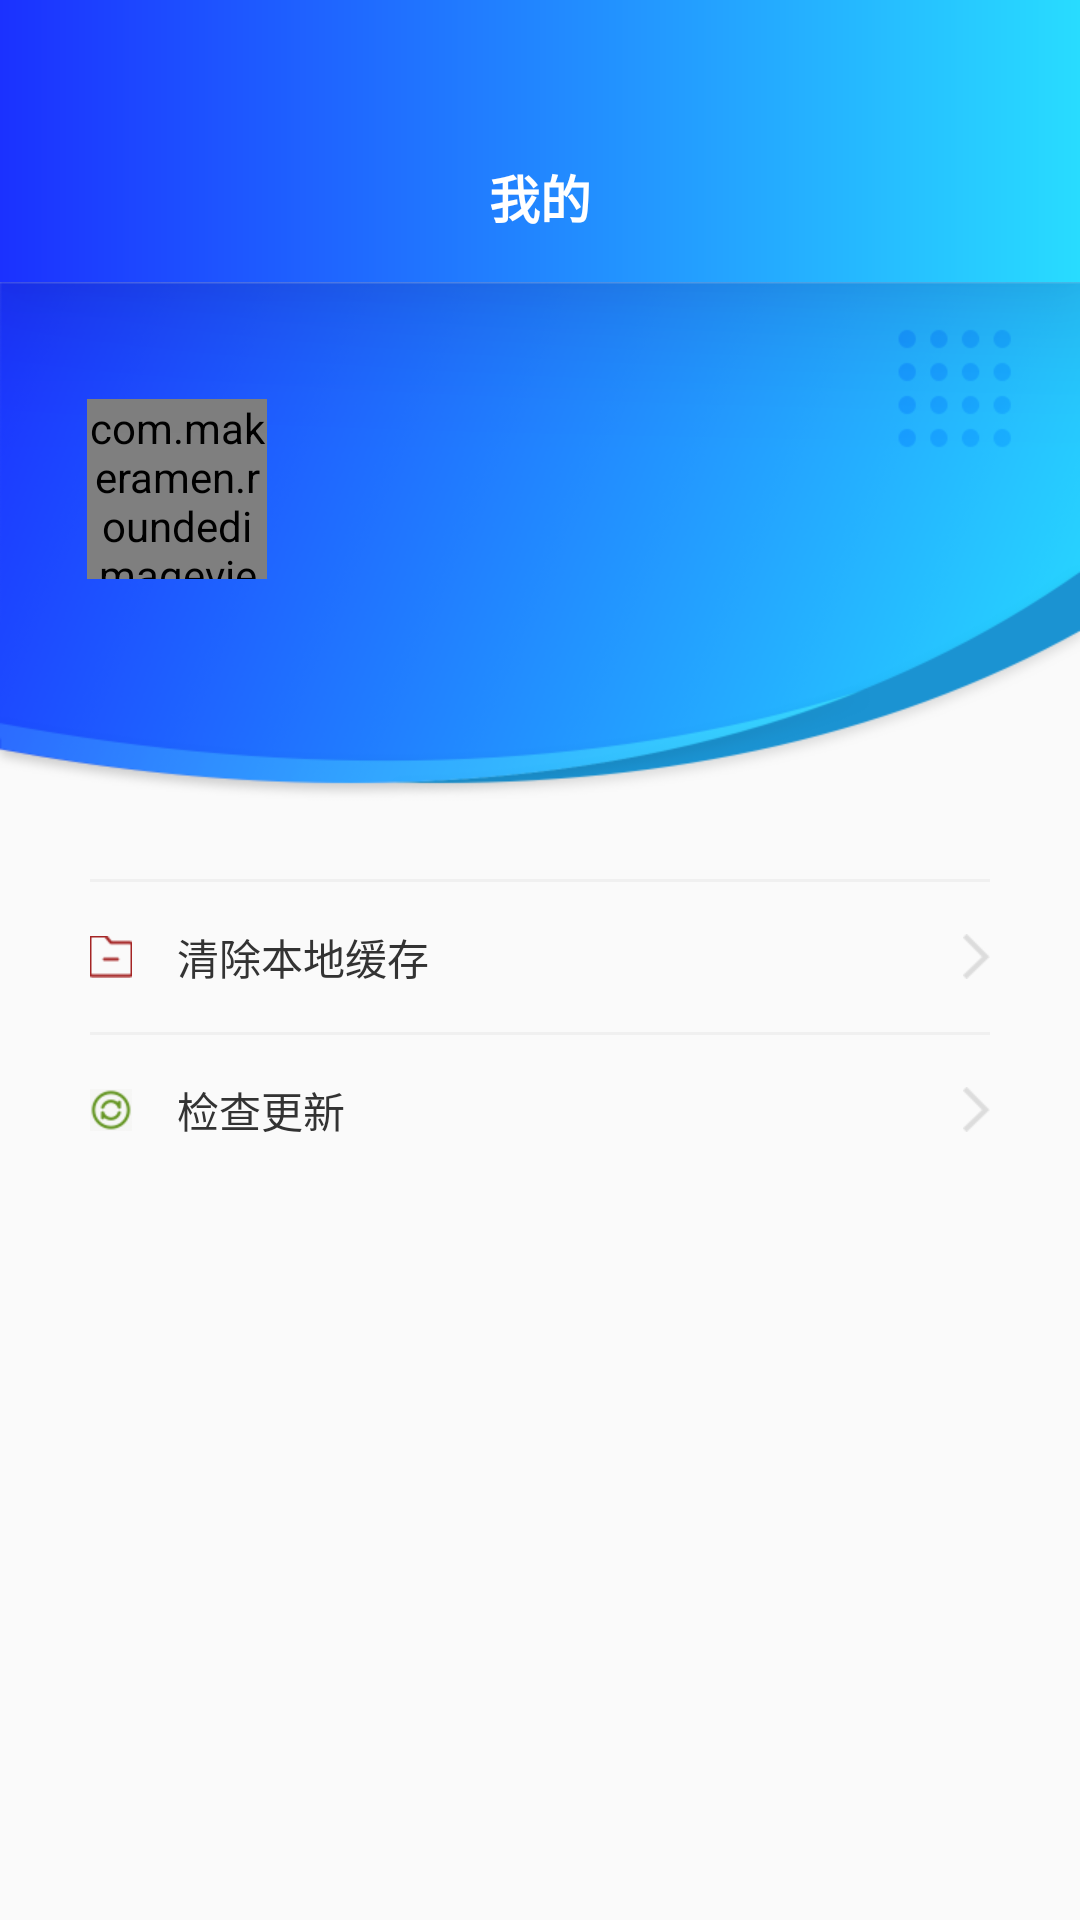

Icon bounding boxes for this 1080×1920 phone screenshot, format (x1, y1, x2, y2):
check update: (91, 1090, 131, 1130)
delete cache: (90, 936, 132, 978)
right: (965, 935, 988, 978), (964, 1088, 988, 1131)
